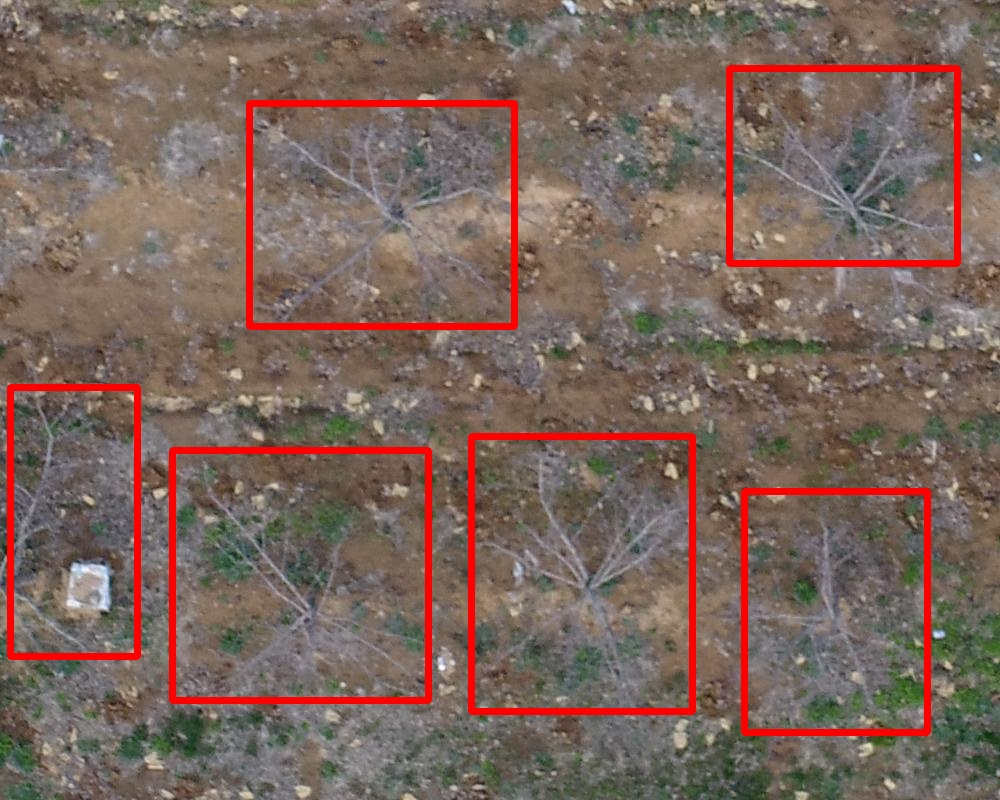apple: (172, 450, 428, 700), (471, 436, 692, 711), (249, 103, 514, 326), (729, 68, 957, 263), (744, 491, 927, 732), (10, 387, 137, 656)
